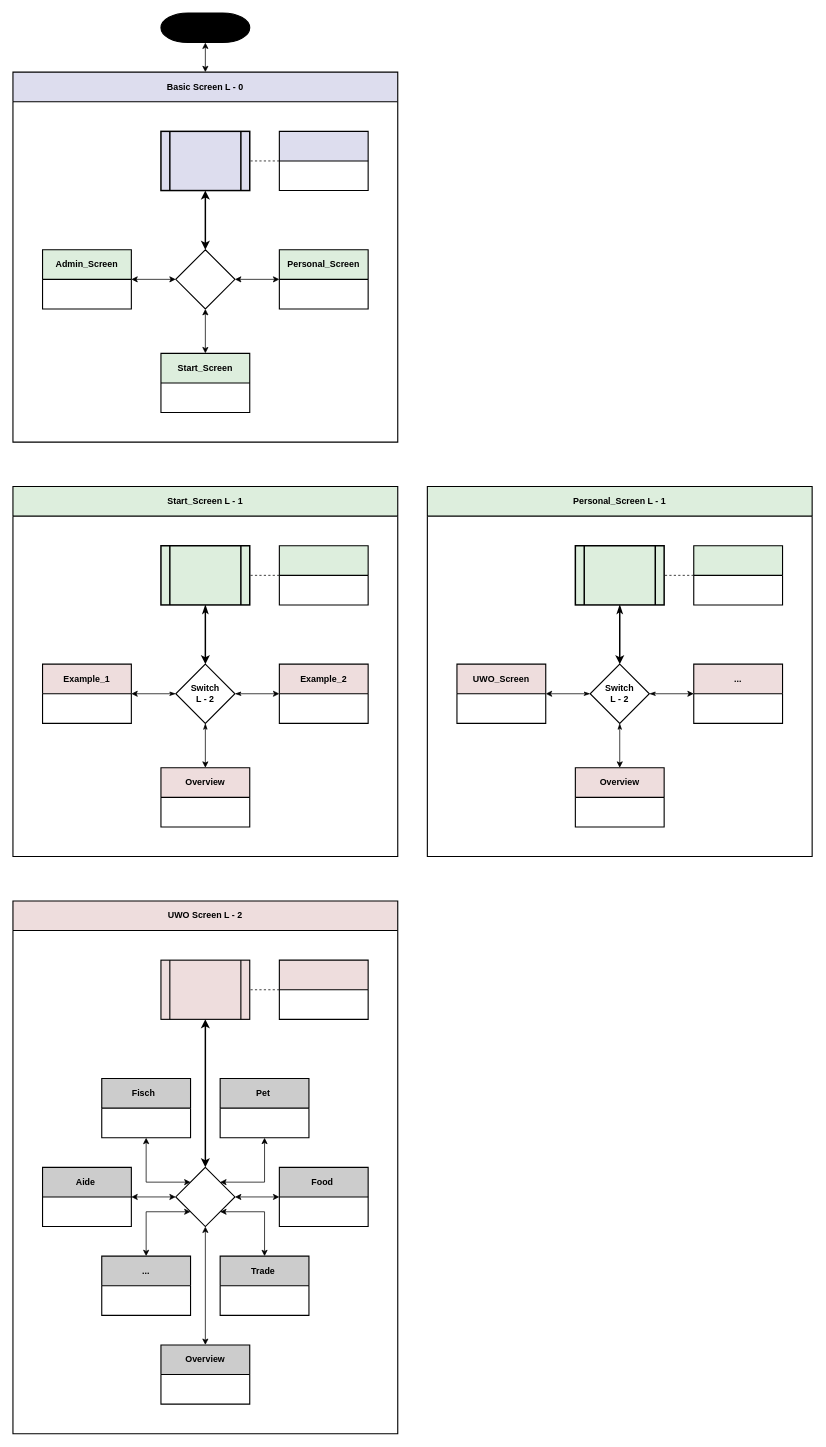
Image size: 826x1447. Some labels were removed from this diagram. Each missing label, with the centre of its shape:
"Contr_Main" goes at point (205, 160).
"Contr_Pers" goes at point (619, 575).
"Contr_Start" goes at point (205, 575).
"Contr_UWO" goes at point (205, 989).
"Main_Bar" goes at point (323, 160).
"Personal_Bar" goes at point (738, 575).
"Start / Stop" goes at point (205, 27).
"Start_Bar" goes at point (323, 575).
"Switch L - 1" goes at point (205, 279).
"Switch L - 3" goes at point (205, 1196).
"UWO_Bar" goes at point (323, 989).
